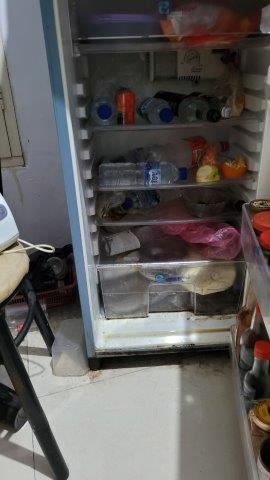botolkaca: (154, 88, 220, 126)
